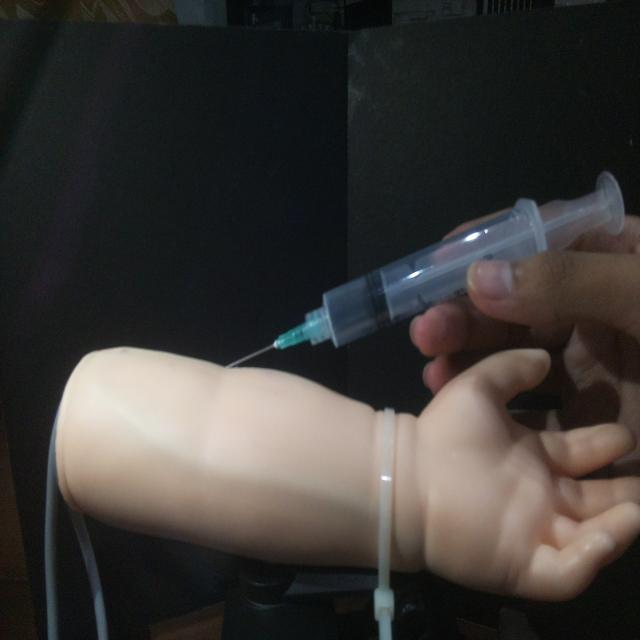21deg: (222, 165, 627, 372)
